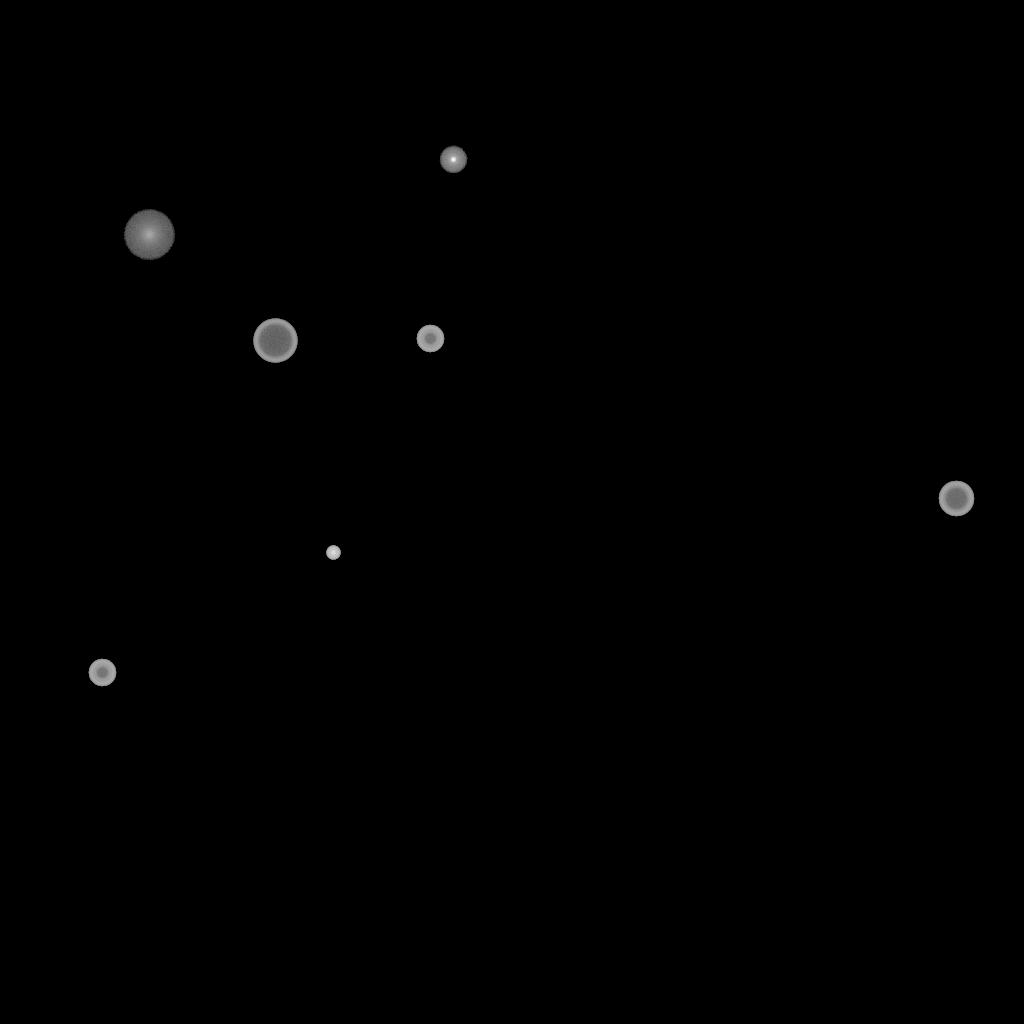depth:-10: (439, 146, 467, 174)
depth:-30: (326, 546, 340, 560)
depth:-50: (88, 659, 116, 687), (416, 325, 444, 353)
depth:-60: (938, 481, 974, 517)
depth:-70: (253, 319, 297, 363)
depth:20: (123, 210, 175, 260)
